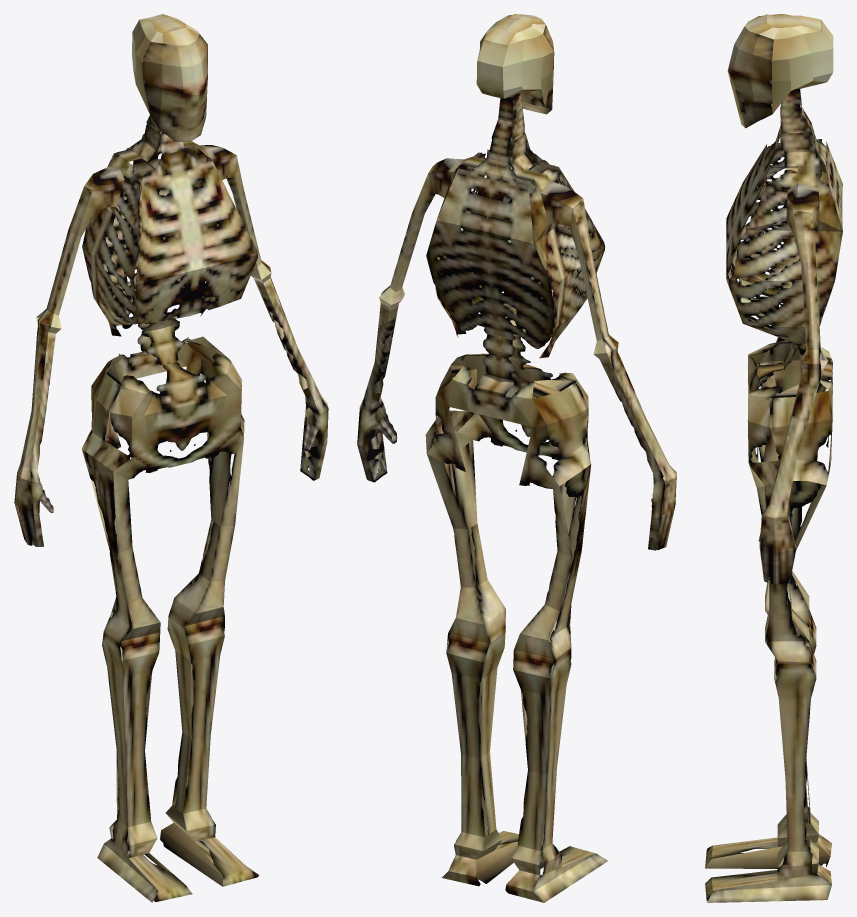
File: skeleton.fbx
3 renders of one model, left to right at view 1: azimuth 30°, elevation 25°; view 2: azimuth 150°, elevation 25°; view 3: azimuth 270°, elevation 25°, orthographic. The views are drawn at different scales.
Parts seen in each view (by area): view 1: Skeleton; view 2: Skeleton; view 3: Skeleton.
Boxes of the visible parts, x1,y1,x2,y2 form: Skeleton: (14, 14, 328, 902); Skeleton: (357, 14, 676, 902); Skeleton: (705, 14, 842, 902).
Bounding box in the file's own units: 186 × 487 × 70.98.
1 material, 1 textured.
